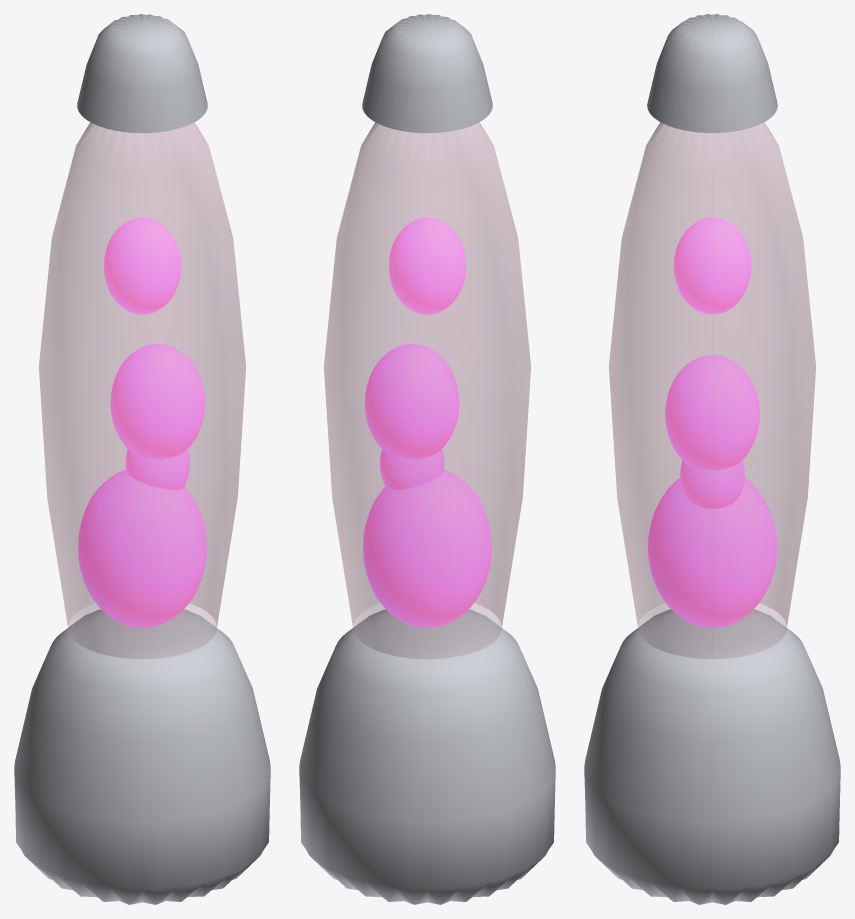
The model's file is deco_lava.glb.
The picture shows the model from 3 angles, left to right: view 1: azimuth 30°, elevation 25°; view 2: azimuth 150°, elevation 25°; view 3: azimuth 270°, elevation 25°; orthographic projection.
Visible parts, largest first — view 1: vidrio lava.001, base lava.001, burbuja lava 0.001, tapa lava.001, burbuja lava 1.001, burbuja lava 2.001, burbuja lava 3.001; view 2: vidrio lava.001, base lava.001, burbuja lava 0.001, tapa lava.001, burbuja lava 1.001, burbuja lava 2.001, burbuja lava 3.001; view 3: vidrio lava.001, base lava.001, burbuja lava 0.001, tapa lava.001, burbuja lava 1.001, burbuja lava 2.001, burbuja lava 3.001.
Part boxes in pixels (x1=…): vidrio lava.001: x1=39, y1=122, x2=245, y2=658; base lava.001: x1=14, y1=609, x2=270, y2=904; burbuja lava 0.001: x1=78, y1=469, x2=206, y2=628; tapa lava.001: x1=77, y1=14, x2=207, y2=133; burbuja lava 1.001: x1=110, y1=344, x2=204, y2=459; burbuja lava 2.001: x1=104, y1=217, x2=180, y2=314; burbuja lava 3.001: x1=125, y1=449, x2=189, y2=490; vidrio lava.001: x1=324, y1=122, x2=530, y2=658; base lava.001: x1=299, y1=609, x2=555, y2=904; burbuja lava 0.001: x1=363, y1=469, x2=491, y2=628; tapa lava.001: x1=362, y1=14, x2=492, y2=133; burbuja lava 1.001: x1=365, y1=344, x2=459, y2=459; burbuja lava 2.001: x1=389, y1=217, x2=465, y2=314; burbuja lava 3.001: x1=380, y1=449, x2=444, y2=490; vidrio lava.001: x1=609, y1=122, x2=815, y2=658; base lava.001: x1=584, y1=609, x2=840, y2=904; burbuja lava 0.001: x1=647, y1=478, x2=777, y2=627; tapa lava.001: x1=647, y1=14, x2=777, y2=132; burbuja lava 1.001: x1=665, y1=355, x2=759, y2=470; burbuja lava 2.001: x1=673, y1=217, x2=751, y2=314; burbuja lava 3.001: x1=680, y1=460, x2=744, y2=508.
Size of the model in its own units: 0.1158 by 0.42 by 0.1158.
